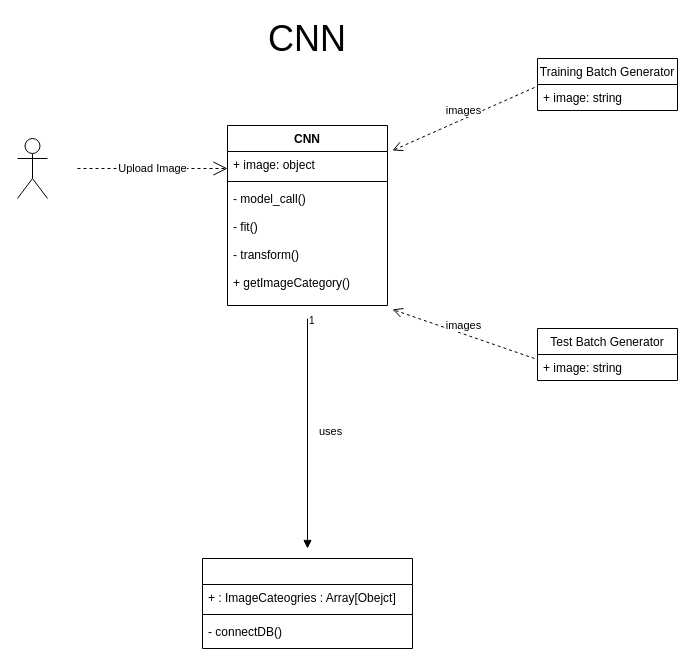
This 695x669 diagram has some shape labels left out. Here are the shapes that lost their labels. From the top down, the box of each, then its label:
(16, 138, 48, 198): Actor
(202, 558, 412, 648): ImageCateogryHandler
